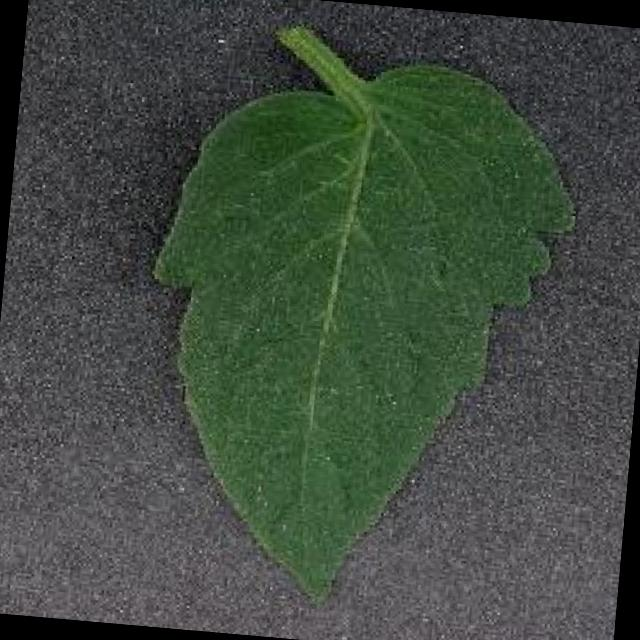healthy: (146, 31, 586, 602)
